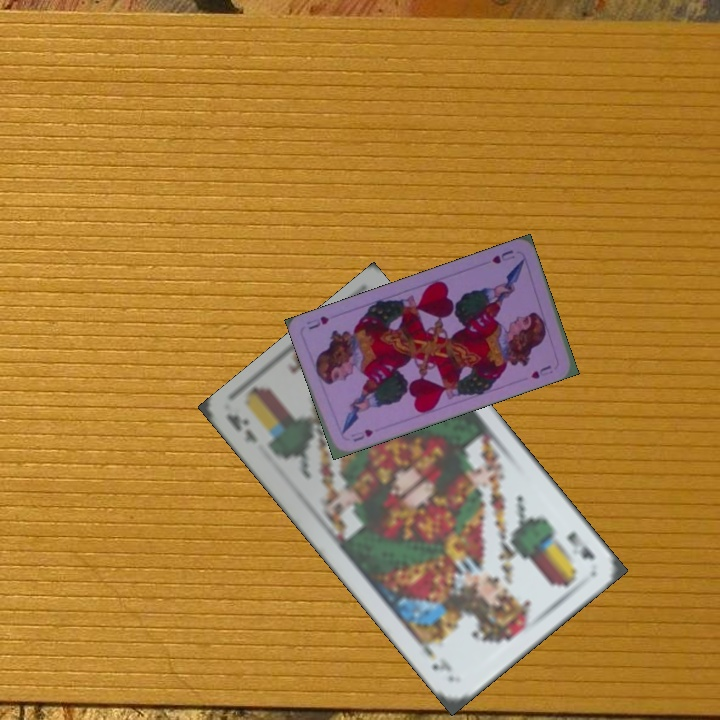EK: (222, 410, 260, 447), (562, 527, 597, 563)
HU: (488, 246, 517, 266), (349, 425, 376, 444)
